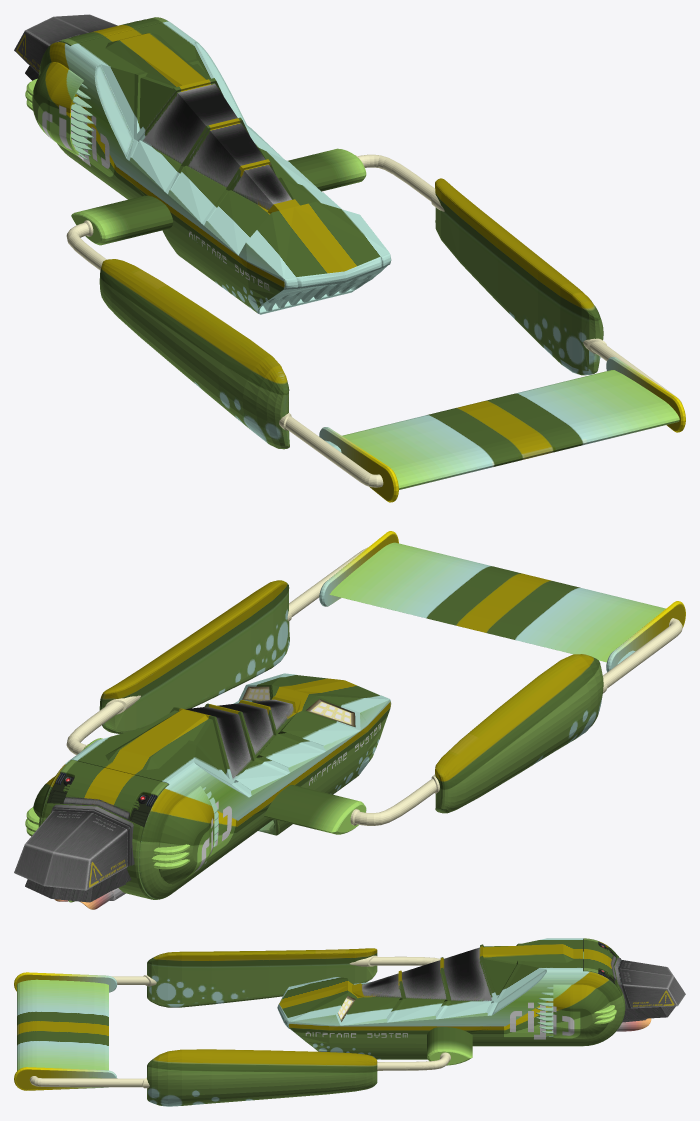
Rendered from rijid.dae.
3 views of the same model, one above another, from view 1: azimuth 30°, elevation 25°; view 2: azimuth 150°, elevation 25°; view 3: azimuth 270°, elevation 25° (orthographic). The views are drawn at different scales.
Visible parts, largest first — view 1: polySurface1; view 2: polySurface1; view 3: polySurface1.
Part boxes in pixels (bbox=[...]): polySurface1: bbox=[14, 14, 685, 502]; polySurface1: bbox=[14, 531, 685, 909]; polySurface1: bbox=[14, 938, 685, 1106].
Bounding box in the file's own units: 9.28 × 22.47 × 3.95.
Materials: 1 (1 with a texture image).
